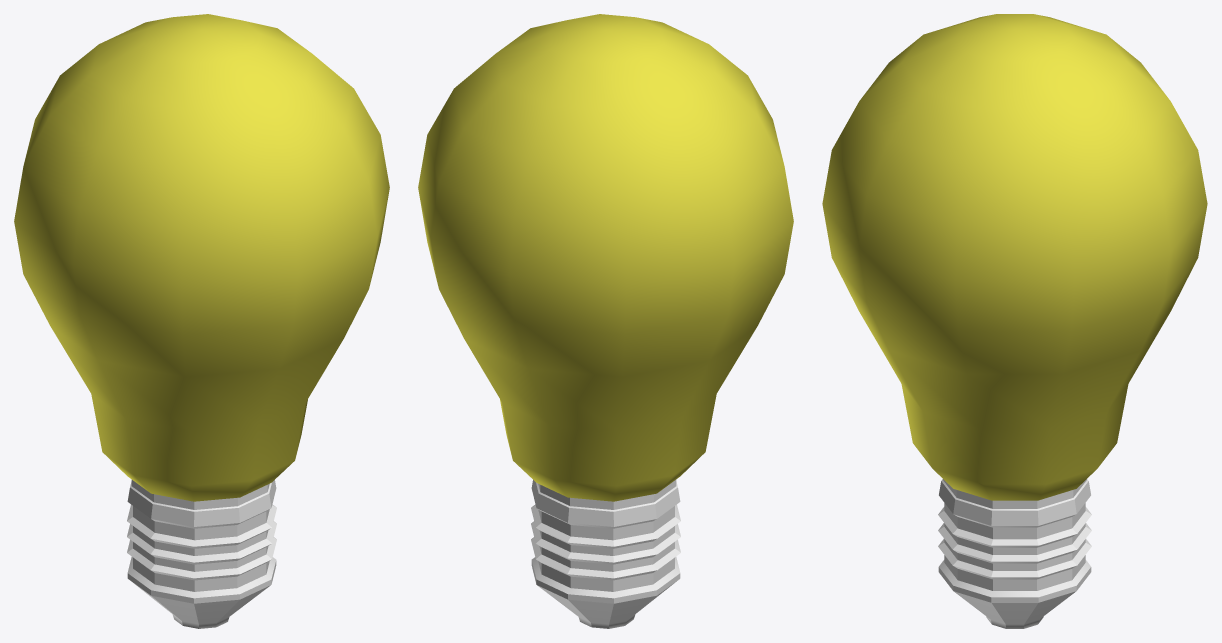
The model's file is lamp.fbx.
3 views of the same model, side by side, from view 1: azimuth 30°, elevation 25°; view 2: azimuth 150°, elevation 25°; view 3: azimuth 270°, elevation 25° (orthographic).
Parts seen in each view (by area): view 1: LightBulb_01; view 2: LightBulb_01; view 3: LightBulb_01.
Part boxes in pixels (box(x1,y1,x2,y2)): LightBulb_01: box(14, 14, 389, 628); LightBulb_01: box(418, 14, 793, 628); LightBulb_01: box(822, 14, 1207, 628).
Size of the model in its own units: 0.6511 by 1.15 by 0.6846.
